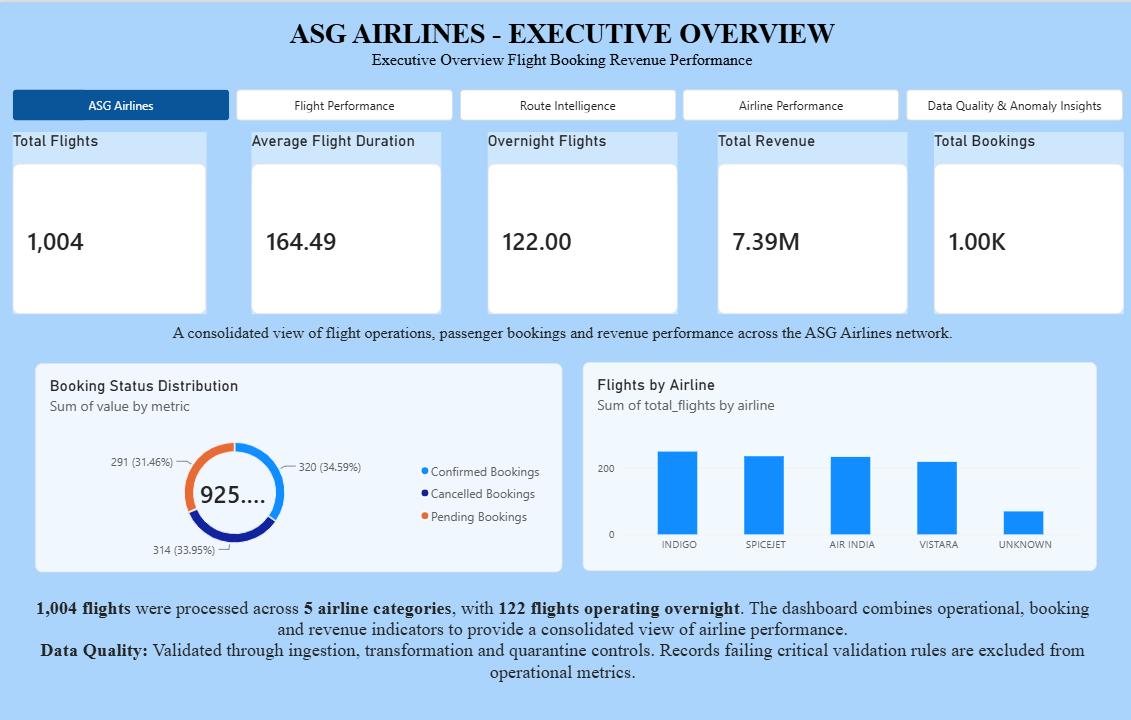

The page's visual inventory and layout, read from the dashboard file:
{"tool":"powerbi","page":{"name":"ASG Airlines","canvas":[1920,1080],"ordinal":0},"visuals":[{"type":"cardVisual","title":"Total Flights","fields":{"Data":["Sum(flight_kpis.value)"]},"box":[15.9,150.7,224.6,211.6],"z":0},{"type":"cardVisual","title":"Average Flight Duration","fields":{"Data":["Sum(flight_kpis.value)"]},"box":[292.8,150.7,220.3,211.6],"z":1000},{"type":"cardVisual","title":"Overnight Flights","fields":{"Data":["Sum(flight_kpis.value)"]},"box":[566.7,150.7,220.3,211.6],"z":2000},{"type":"clusteredColumnChart","title":"Flights by Airline","fields":{"Category":["airline_kpis.airline"],"Y":["Sum(airline_kpis.total_flights)"]},"box":[676.8,417.4,595.7,242],"z":3000},{"type":"donutChart","title":"Booking Status Distribution","fields":{"Category":["booking_kpis.metric"],"Y":["Sum(booking_kpis.value)"]},"box":[42,418.8,611.6,242],"z":4000},{"type":"cardVisual","title":"Total Bookings","fields":{"Data":["Sum(booking_kpis.value)"]},"box":[1084.1,150.7,220.3,211.6],"z":5000},{"type":"cardVisual","title":"Total Revenue","fields":{"Data":["Sum(payment_kpis.value)"]},"box":[833.3,150.7,220.3,211.6],"z":6000},{"type":"textbox","box":[100,0,1105.8,173.9],"z":7000},{"type":"textbox","box":[42,372.5,1223.2,44.9],"z":8000},{"type":"textbox","box":[42,689.9,1223.2,200],"z":9000},{"type":"pageNavigator","box":[15.9,101.4,1288.4,36.2],"z":10000}]}

Visuals, with their boxes on the page's 1920x1080 design canvas (x1, y1, x2, y2). These are canvas units, not pixel positions in the 1131x720 screenshot, which may show the page scaled, cropped or inside an application window:
"Total Flights" cardVisual: 16, 151, 240, 362
"Average Flight Duration" cardVisual: 293, 151, 513, 362
"Overnight Flights" cardVisual: 567, 151, 787, 362
"Flights by Airline" clusteredColumnChart: 677, 417, 1272, 659
"Booking Status Distribution" donutChart: 42, 419, 654, 661
"Total Bookings" cardVisual: 1084, 151, 1304, 362
"Total Revenue" cardVisual: 833, 151, 1054, 362
textbox: 100, 0, 1206, 174
textbox: 42, 372, 1265, 417
textbox: 42, 690, 1265, 890
pageNavigator: 16, 101, 1304, 138
